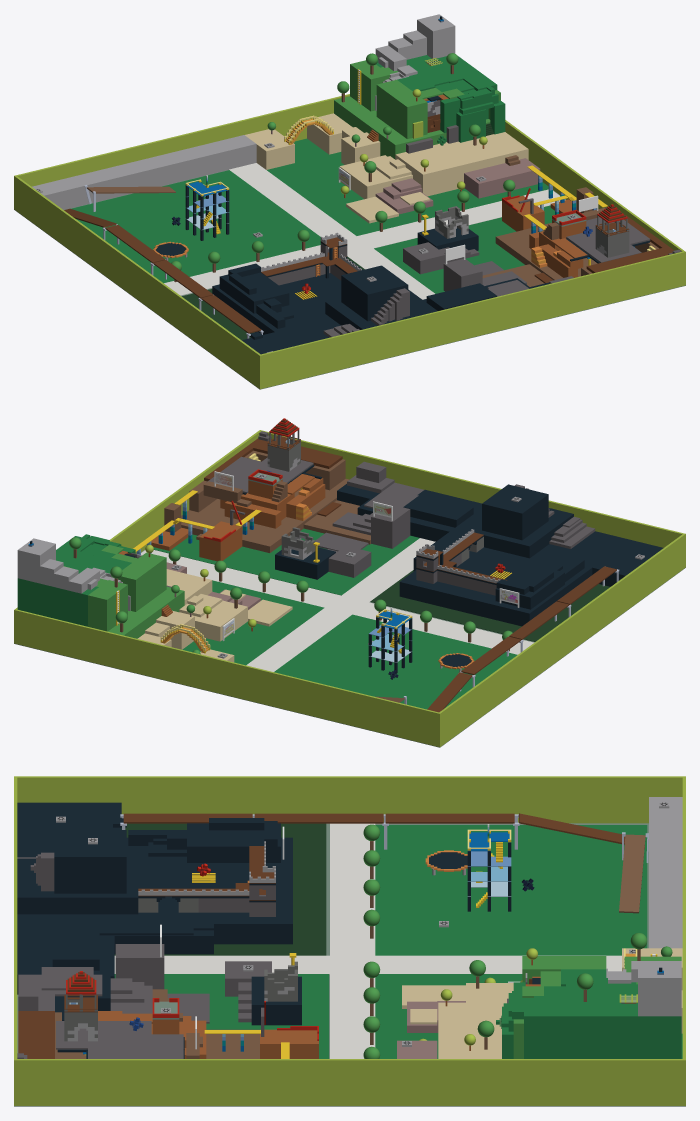
The model's file is crossroads.glb.
The picture shows the model from 3 angles, top to bottom: view 1: azimuth 30°, elevation 25°; view 2: azimuth 150°, elevation 25°; view 3: azimuth 270°, elevation 25°; orthographic projection. The views are drawn at different scales.
Parts seen in each view (by area): view 1: Object_36, Object_34, Object_26, Object_32, Object_38, Object_35, Object_17, Object_29, Object_33, Object_23, Object_25, Object_37 (+6 smaller); view 2: Object_36, Object_26, Object_34, Object_29, Object_17, Object_35, Object_23, Object_33, Object_38, Object_25, Object_32, Object_14 (+7 smaller); view 3: Object_36, Object_34, Object_26, Object_17, Object_29, Object_32, Object_33, Object_14, Object_38, Object_35, Object_23, Object_25 (+8 smaller).
Part boxes in pixels (x1=…): Object_36: x1=14, y1=58, x2=685, y2=389; Object_34: x1=71, y1=55, x2=554, y2=293; Object_26: x1=156, y1=16, x2=649, y2=354; Object_32: x1=32, y1=14, x2=606, y2=352; Object_38: x1=245, y1=113, x2=528, y2=223; Object_35: x1=171, y1=53, x2=515, y2=270; Object_17: x1=164, y1=163, x2=565, y2=299; Object_29: x1=268, y1=100, x2=681, y2=337; Object_33: x1=64, y1=62, x2=674, y2=333; Object_23: x1=87, y1=65, x2=659, y2=286; Object_25: x1=315, y1=94, x2=587, y2=277; Object_37: x1=271, y1=100, x2=540, y2=214; Object_36: x1=14, y1=430, x2=685, y2=747; Object_26: x1=30, y1=464, x2=663, y2=673; Object_34: x1=17, y1=528, x2=517, y2=709; Object_29: x1=130, y1=431, x2=595, y2=595; Object_17: x1=141, y1=538, x2=533, y2=671; Object_35: x1=69, y1=537, x2=512, y2=654; Object_23: x1=73, y1=450, x2=509, y2=702; Object_33: x1=127, y1=419, x2=616, y2=712; Object_38: x1=137, y1=569, x2=292, y2=662; Object_25: x1=119, y1=474, x2=439, y2=631; Object_32: x1=17, y1=458, x2=644, y2=671; Object_14: x1=370, y1=570, x2=609, y2=641; Object_36: x1=14, y1=776, x2=685, y2=1105; Object_34: x1=114, y1=825, x2=682, y2=1058; Object_26: x1=17, y1=802, x2=662, y2=1058; Object_17: x1=114, y1=823, x2=621, y2=1058; Object_29: x1=17, y1=852, x2=624, y2=1058; Object_32: x1=56, y1=797, x2=682, y2=1046; Object_33: x1=18, y1=813, x2=644, y2=1058; Object_14: x1=114, y1=823, x2=326, y2=955; Object_38: x1=402, y1=948, x2=682, y2=1058; Object_35: x1=363, y1=824, x2=681, y2=1058; Object_23: x1=55, y1=834, x2=645, y2=1058; Object_25: x1=98, y1=880, x2=540, y2=1058.
Bounding box in the file's own units: 400 × 87.6 × 400.
Materials: 41 (6 with a texture image).
